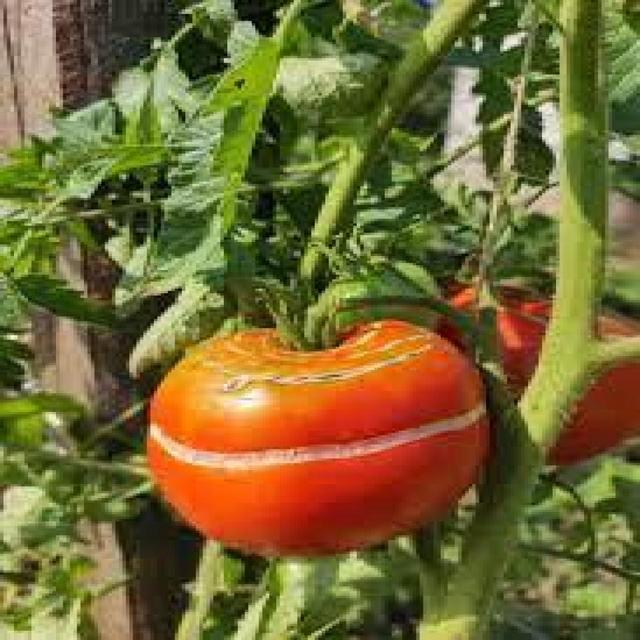Cracking Fruit: (93, 265, 327, 322)
